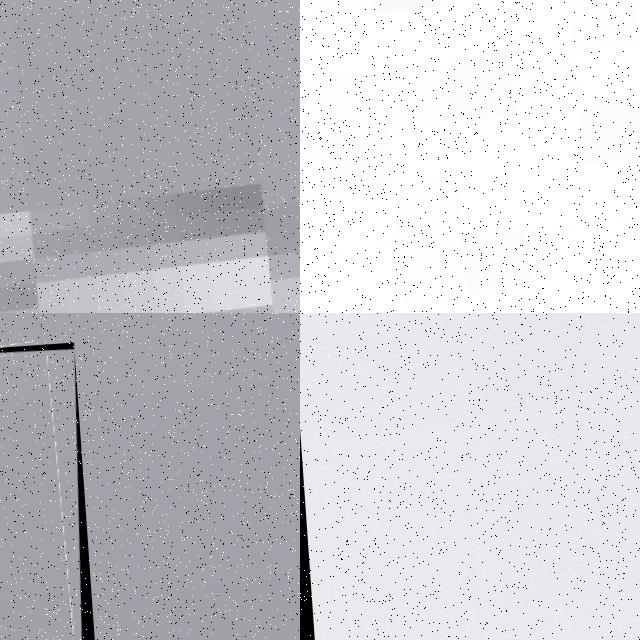drone: (300, 313, 640, 640), (300, 0, 640, 313), (0, 0, 300, 313), (0, 342, 113, 640)
